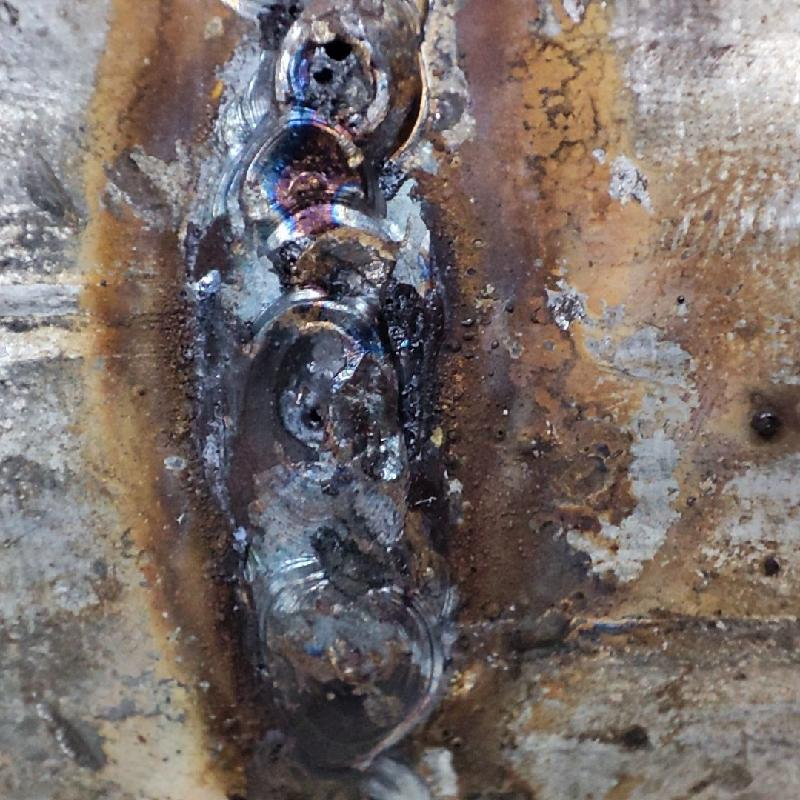Surface_pores: (293, 26, 364, 96), (285, 394, 352, 447)
crater: (239, 2, 424, 504)
